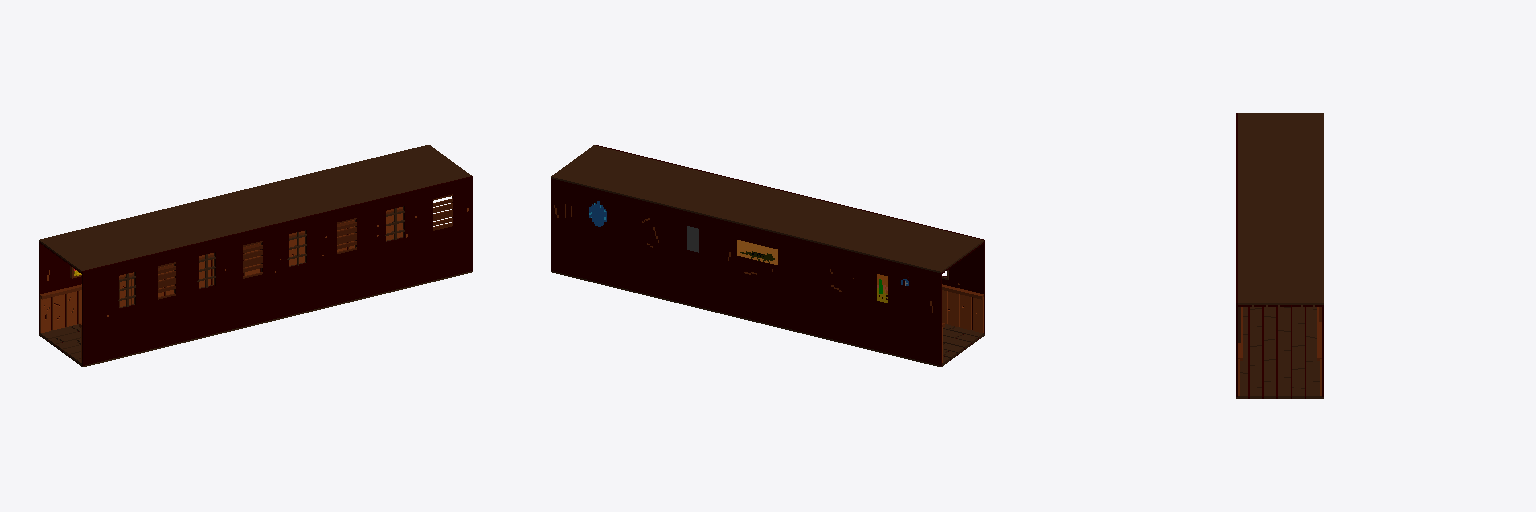
3 renders of one model, left to right at view 1: azimuth 30°, elevation 25°; view 2: azimuth 150°, elevation 25°; view 3: azimuth 270°, elevation 25°, orthographic.
Parts seen in each view (by area): view 1: object 1; view 2: object 1; view 3: object 1.
Boxes of the visible parts, x1=… form: object 1: x1=39, y1=145, x2=472, y2=366; object 1: x1=551, y1=145, x2=984, y2=366; object 1: x1=1236, y1=113, x2=1323, y2=398.
Size of the model in its own units: 25.6 by 6 by 5.
1 materials, 1 textured.